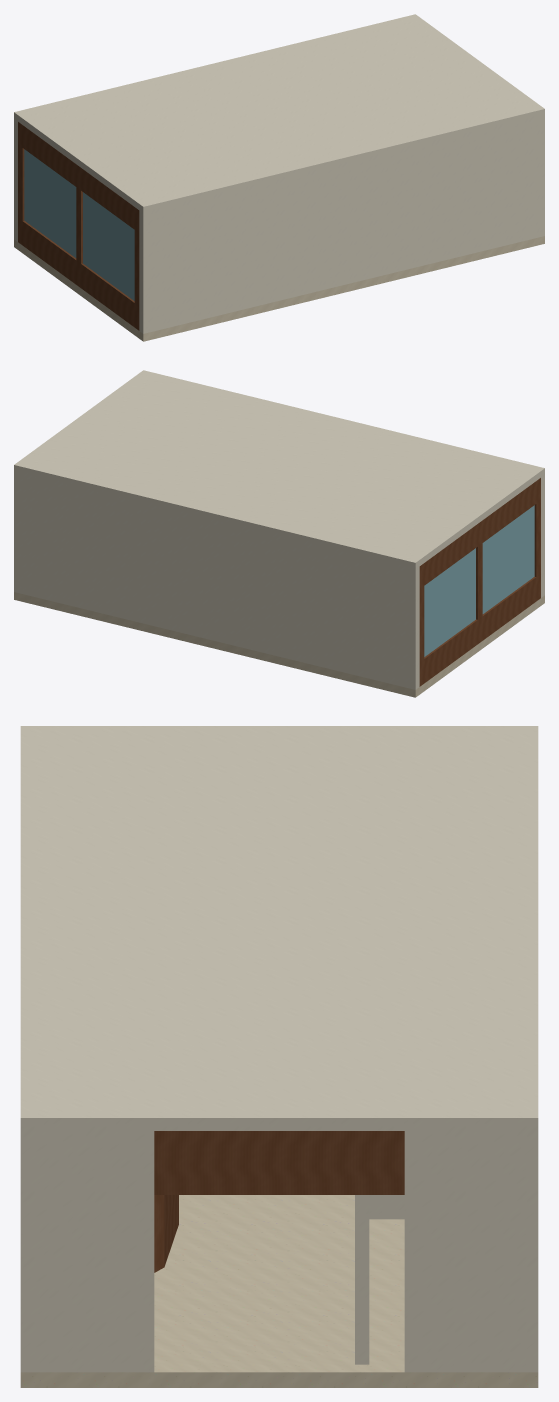
File: TidalSpecialty.glb
3 views of the same model, one above another, from view 1: azimuth 30°, elevation 25°; view 2: azimuth 150°, elevation 25°; view 3: azimuth 270°, elevation 25° (orthographic). The views are drawn at different scales.
Parts seen in each view (by area): view 1: TA382_Ceiling, TA382_SouthWall, TA382_Floor, TA382_CourtGlass_0, TA382_CourtGlass_1, TA382_WestSill, TA382_WestHeader, TA382_WestPier_1, TA382_WestPier_0, TA382_NorthWall, TA382_WestPier_2; view 2: TA382_Ceiling, TA382_NorthWall, TA382_Floor, TA382_CourtGlass_1, TA382_CourtGlass_0, TA382_WestSill, TA382_WestHeader, TA382_WestPier_1, TA382_WestPier_2, TA382_SouthWall, TA382_WestPier_0; view 3: TA382_Ceiling, TA382_Floor, TA382_FrontWall_0, TA382_FrontWall_1, TA382_EntryLintel, TA382_NorthWall, TA382_SouthWall, TA382_WashSouth_1, TA382_PrivacyScreen, TA382_WashWest.
Boxes of the visible parts, left/top/right/bottom form: TA382_Ceiling: left=14, top=14, right=544, bottom=213; TA382_SouthWall: left=139, top=115, right=544, bottom=333; TA382_Floor: left=14, top=236, right=544, bottom=341; TA382_CourtGlass_0: left=24, top=149, right=76, bottom=257; TA382_CourtGlass_1: left=83, top=192, right=134, bottom=300; TA382_WestSill: left=18, top=218, right=139, bottom=330; TA382_WestHeader: left=18, top=122, right=139, bottom=232; TA382_WestPier_1: left=76, top=187, right=82, bottom=263; TA382_WestPier_0: left=18, top=144, right=24, bottom=220; TA382_NorthWall: left=14, top=119, right=17, bottom=241; TA382_WestPier_2: left=134, top=230, right=139, bottom=305; TA382_Ceiling: left=14, top=370, right=544, bottom=569; TA382_NorthWall: left=14, top=471, right=419, bottom=689; TA382_Floor: left=14, top=592, right=544, bottom=697; TA382_CourtGlass_1: left=482, top=505, right=534, bottom=613; TA382_CourtGlass_0: left=424, top=548, right=475, bottom=656; TA382_WestSill: left=419, top=574, right=540, bottom=686; TA382_WestHeader: left=419, top=478, right=540, bottom=588; TA382_WestPier_1: left=476, top=543, right=482, bottom=619; TA382_WestPier_2: left=534, top=500, right=540, bottom=576; TA382_SouthWall: left=541, top=475, right=544, bottom=597; TA382_WestPier_0: left=419, top=586, right=424, bottom=661; TA382_Ceiling: left=20, top=726, right=538, bottom=1130; TA382_Floor: left=20, top=1195, right=538, bottom=1387; TA382_FrontWall_0: left=404, top=1131, right=522, bottom=1372; TA382_FrontWall_1: left=36, top=1131, right=154, bottom=1372; TA382_EntryLintel: left=154, top=1131, right=404, bottom=1194; TA382_NorthWall: left=522, top=1131, right=538, bottom=1372; TA382_SouthWall: left=20, top=1131, right=36, bottom=1372; TA382_WashSouth_1: left=355, top=1195, right=369, bottom=1364; TA382_PrivacyScreen: left=154, top=1195, right=178, bottom=1272; TA382_WashWest: left=369, top=1195, right=404, bottom=1219.
Bounding box in the file's own units: 12.9 × 4.14 × 7.2.
7 materials, 5 textured.
